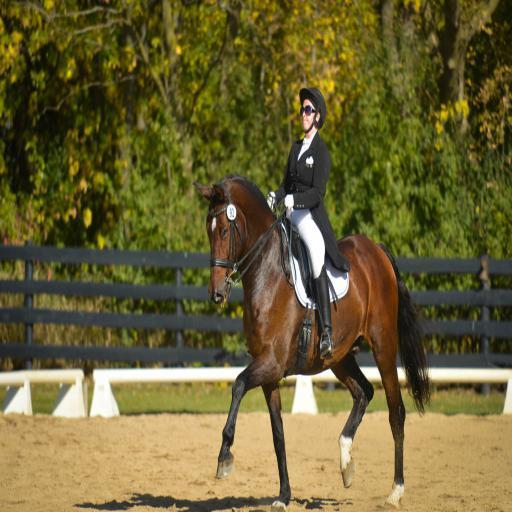horse: (190, 176, 432, 512)
